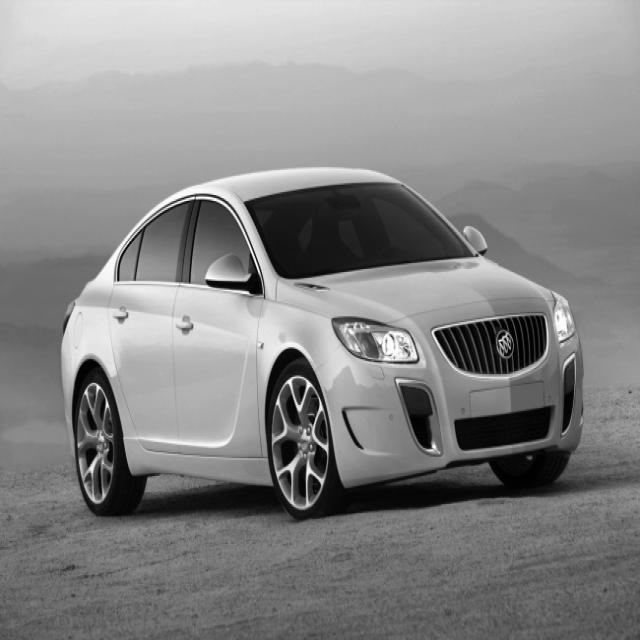car: (60, 166, 584, 520)
